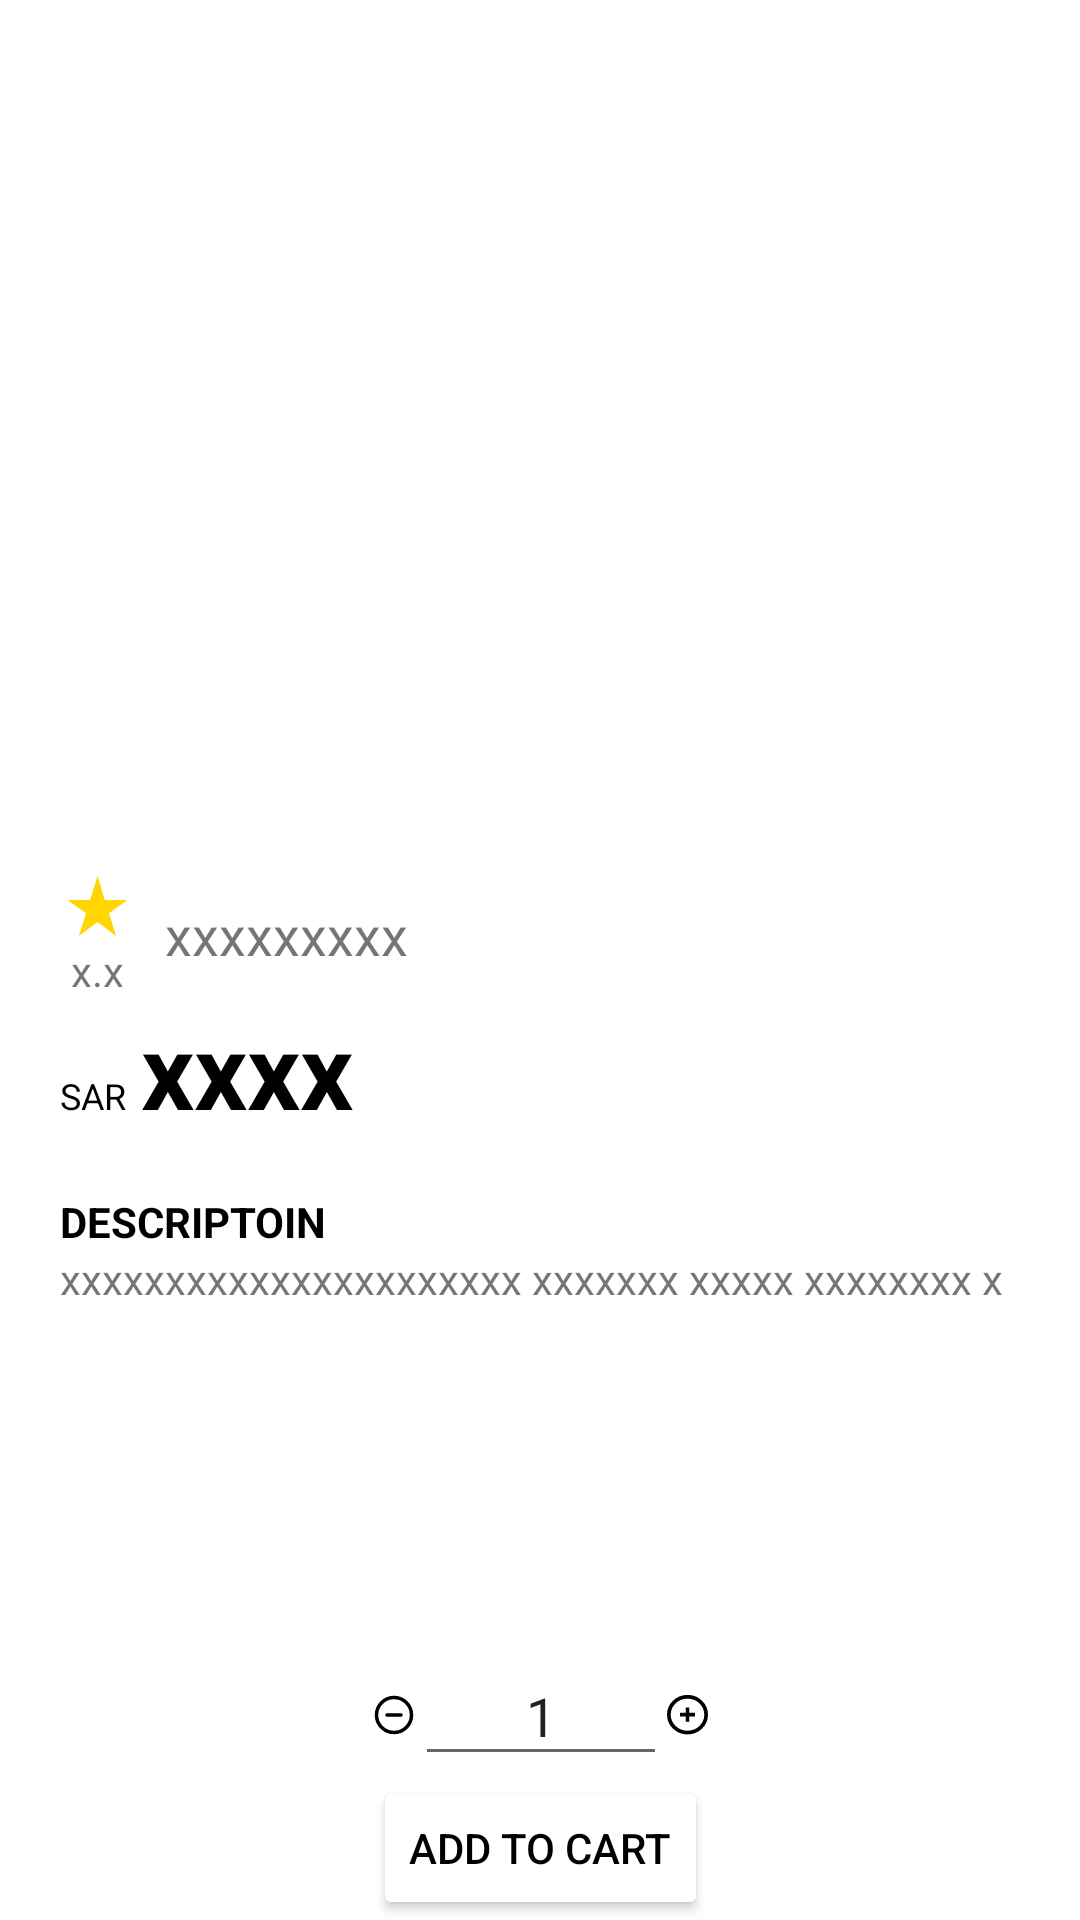

Icon bounding boxes for this 1080×1920 phone screenshot, format (x1,y1,x2,y2):
remove from cart: (374,1695,414,1735)
